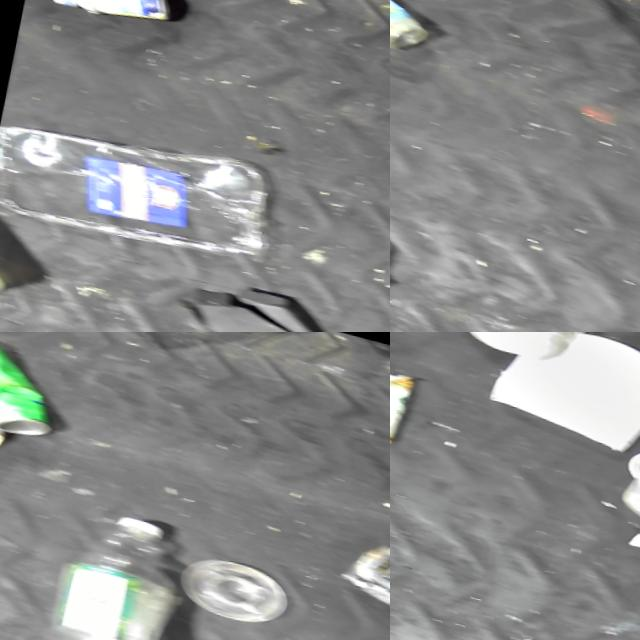can: (0, 332, 69, 441), (390, 0, 440, 57)
plastic_bottle: (46, 494, 195, 640)
